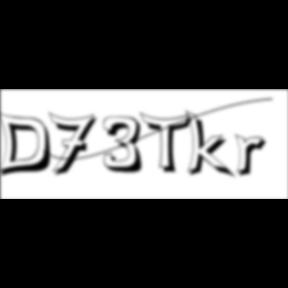3: (104, 116, 150, 176)
7: (48, 111, 104, 179)
D: (0, 110, 58, 180)
T: (140, 112, 198, 176)
k: (186, 108, 238, 181)
r: (235, 134, 273, 180)
